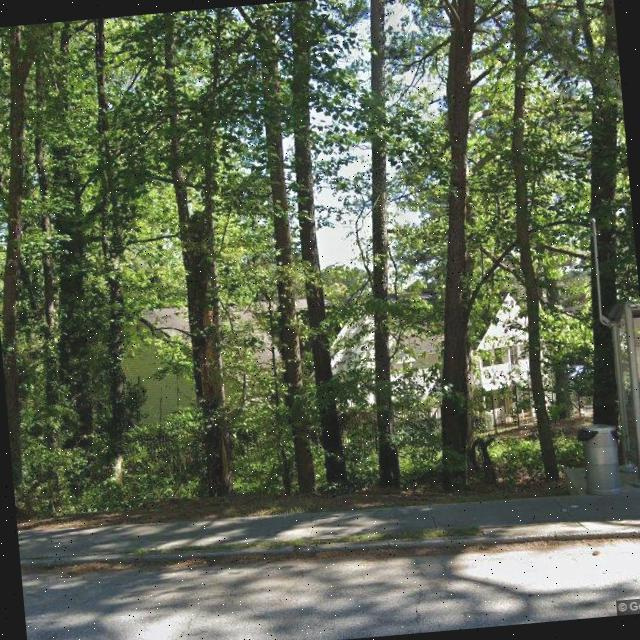shelter: (602, 298, 640, 494)
trash_can: (582, 424, 622, 496)
